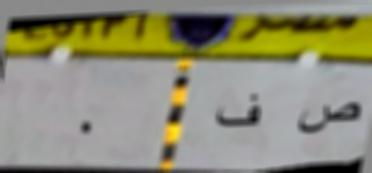0: (64, 115, 108, 144)
faa: (212, 94, 266, 137)
saad: (292, 94, 364, 140)
